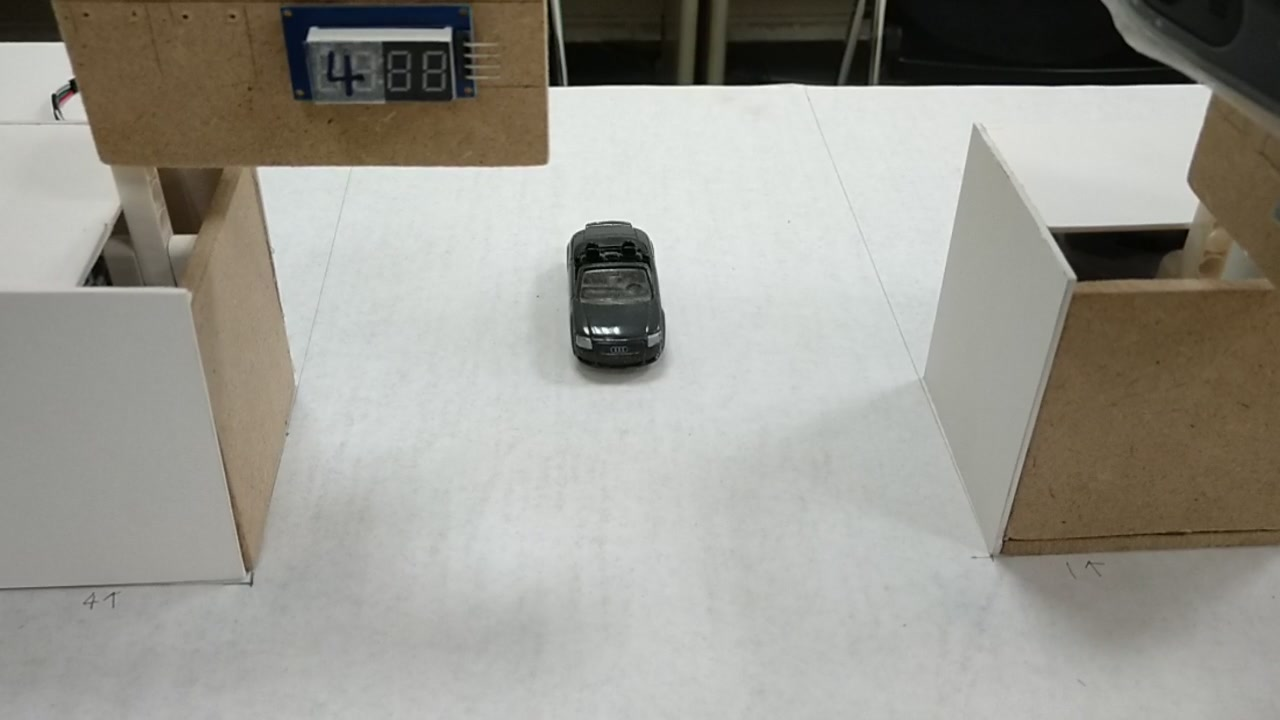car: (568, 222, 662, 370)
